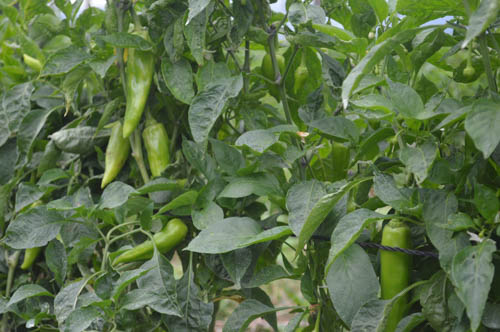ChiliPepper: (111, 221, 193, 270), (379, 226, 414, 315), (124, 44, 157, 138), (100, 128, 131, 185), (143, 126, 173, 181)
